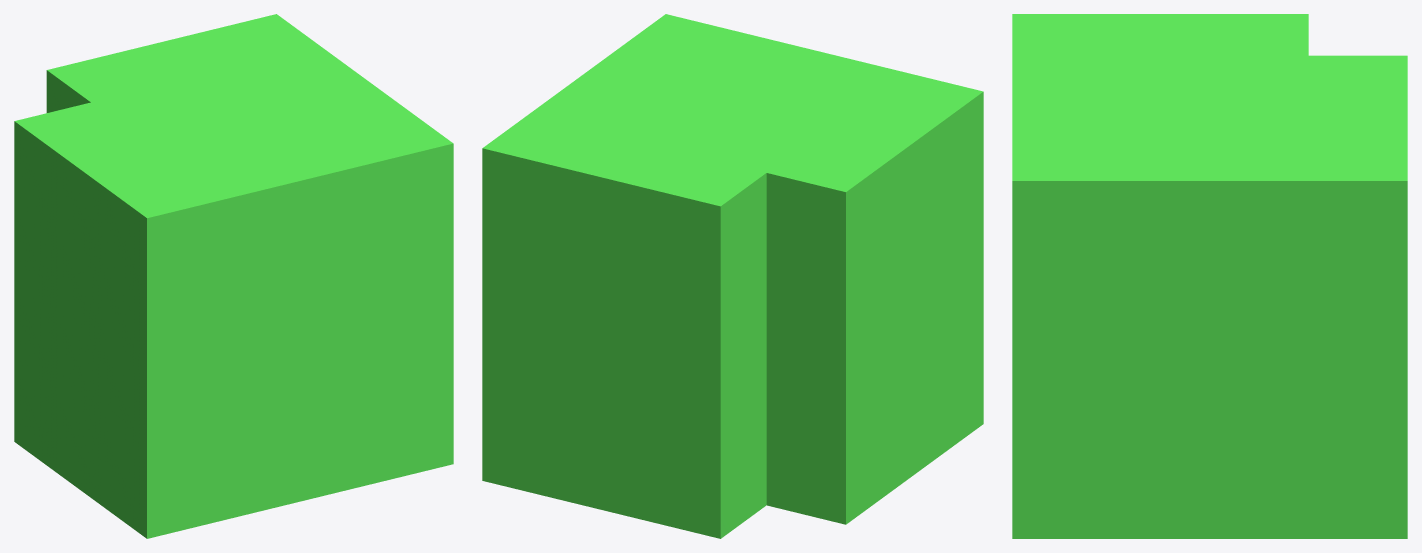
The model's file is Tiles3D_Sol_angle_int_E.fbx.
3 renders of one model, left to right at view 1: azimuth 30°, elevation 25°; view 2: azimuth 150°, elevation 25°; view 3: azimuth 270°, elevation 25°, orthographic. The views are drawn at different scales.
Visible parts, largest first — view 1: Tiles3D_sol_angle_int_O; view 2: Tiles3D_sol_angle_int_O; view 3: Tiles3D_sol_angle_int_O.
Boxes of the visible parts, x1,y1,x2,y2 form: Tiles3D_sol_angle_int_O: (14,14,453,538); Tiles3D_sol_angle_int_O: (482,14,983,538); Tiles3D_sol_angle_int_O: (1012,14,1407,538).
Bounding box in the file's own units: 100 × 100 × 100.
1 material, 1 textured.
